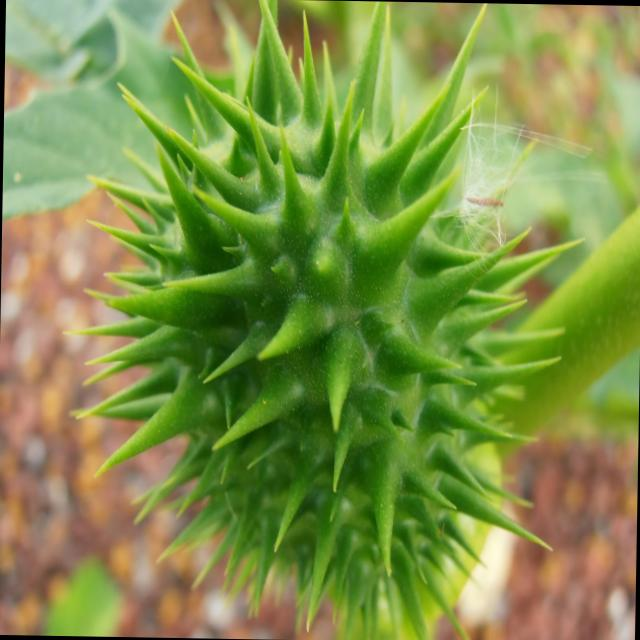Poisonous-Datura_Stramonium: (74, 0, 588, 640)
